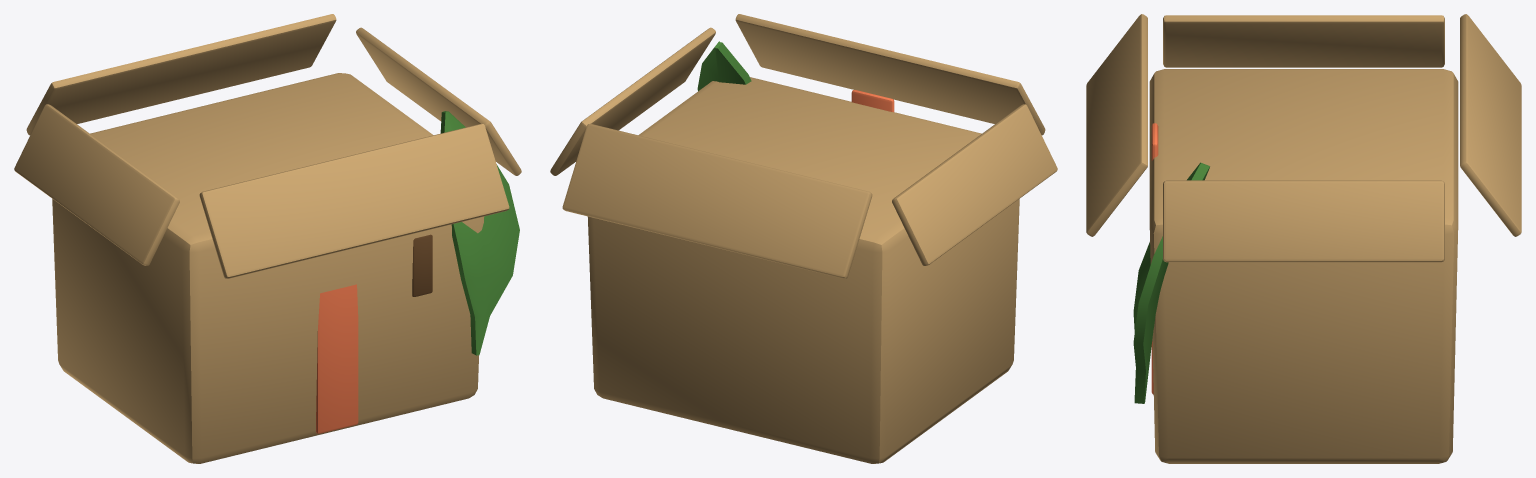
Rendered from W2_Crate_B.fbx.
3 views of the same model, side by side, from view 1: azimuth 30°, elevation 25°; view 2: azimuth 150°, elevation 25°; view 3: azimuth 270°, elevation 25° (orthographic). The views are drawn at different scales.
Parts seen in each view (by area): view 1: W2_Crate_B; view 2: W2_Crate_B; view 3: W2_Crate_B.
Part boxes in pixels (bbox=[...]): W2_Crate_B: bbox=[14, 14, 521, 463]; W2_Crate_B: bbox=[550, 14, 1057, 463]; W2_Crate_B: bbox=[1086, 14, 1521, 463].
Bounding box in the file's own units: 1.44 × 1.03 × 1.33.
